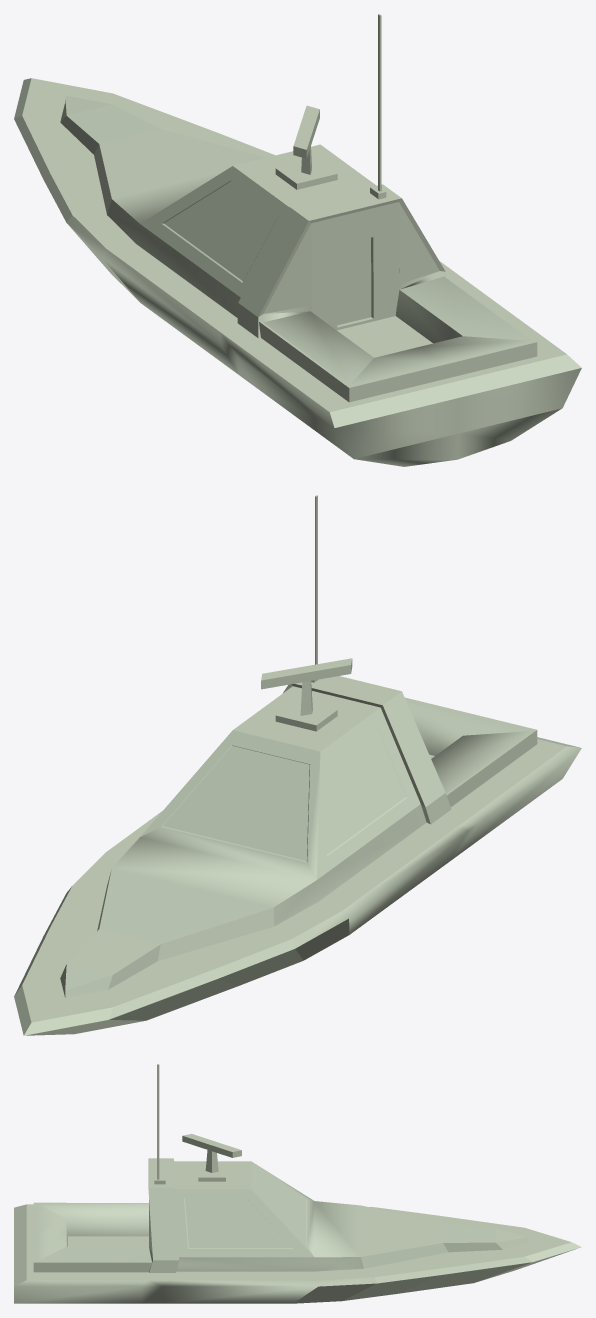
The model's file is BoatZeroPatient.fbx.
The picture shows the model from 3 angles, top to bottom: view 1: azimuth 30°, elevation 25°; view 2: azimuth 150°, elevation 25°; view 3: azimuth 270°, elevation 25°; orthographic projection. The views are drawn at different scales.
Parts seen in each view (by area): view 1: Circle.001; view 2: Circle.001; view 3: Circle.001.
Boxes of the visible parts, left/top/right/bottom form: Circle.001: left=14, top=14, right=581, bottom=466; Circle.001: left=14, top=495, right=581, bottom=1035; Circle.001: left=14, top=1064, right=581, bottom=1303.
Size of the model in its own units: 123 by 169 by 373.
